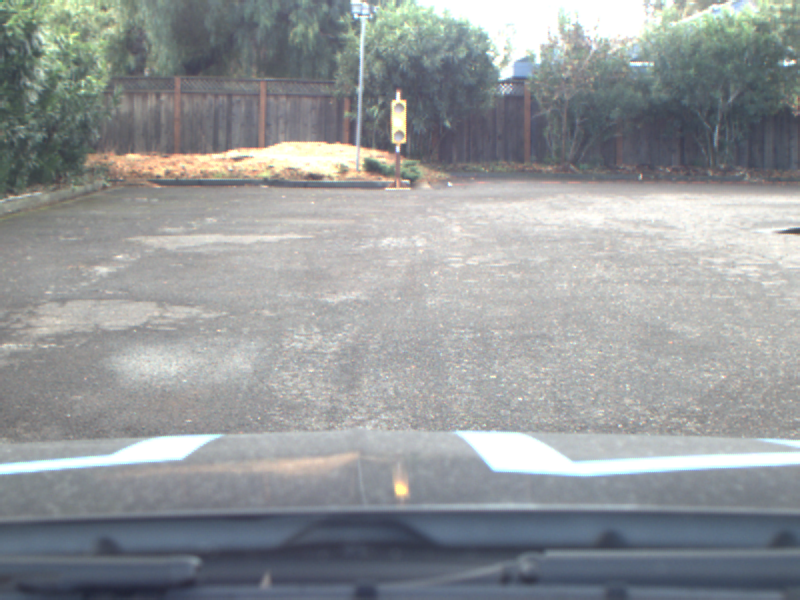Yellow: (390, 99, 406, 144)
